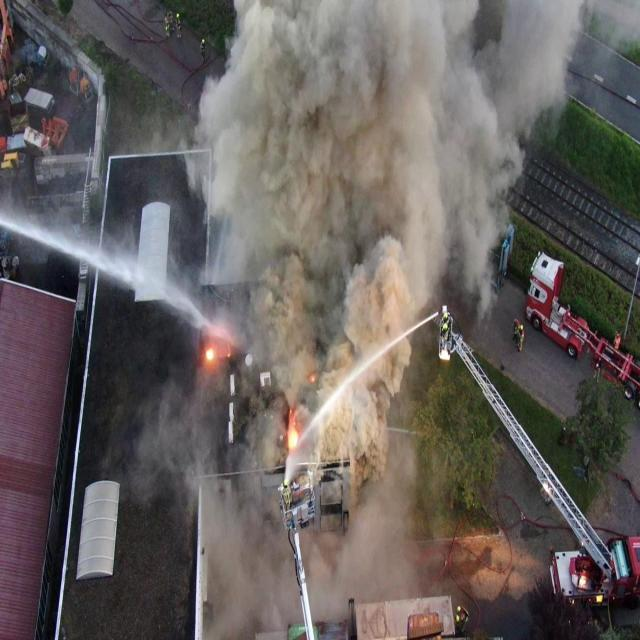Fire: (288, 431, 298, 448), (206, 349, 213, 360), (312, 378, 315, 382)
Smoke: (176, 0, 640, 640)
